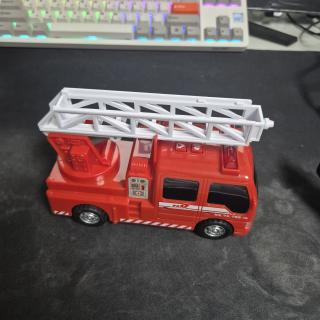Fire_truck: (38, 88, 274, 240)
